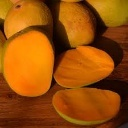mango: (2, 28, 55, 97), (51, 86, 121, 126), (5, 1, 53, 45)
